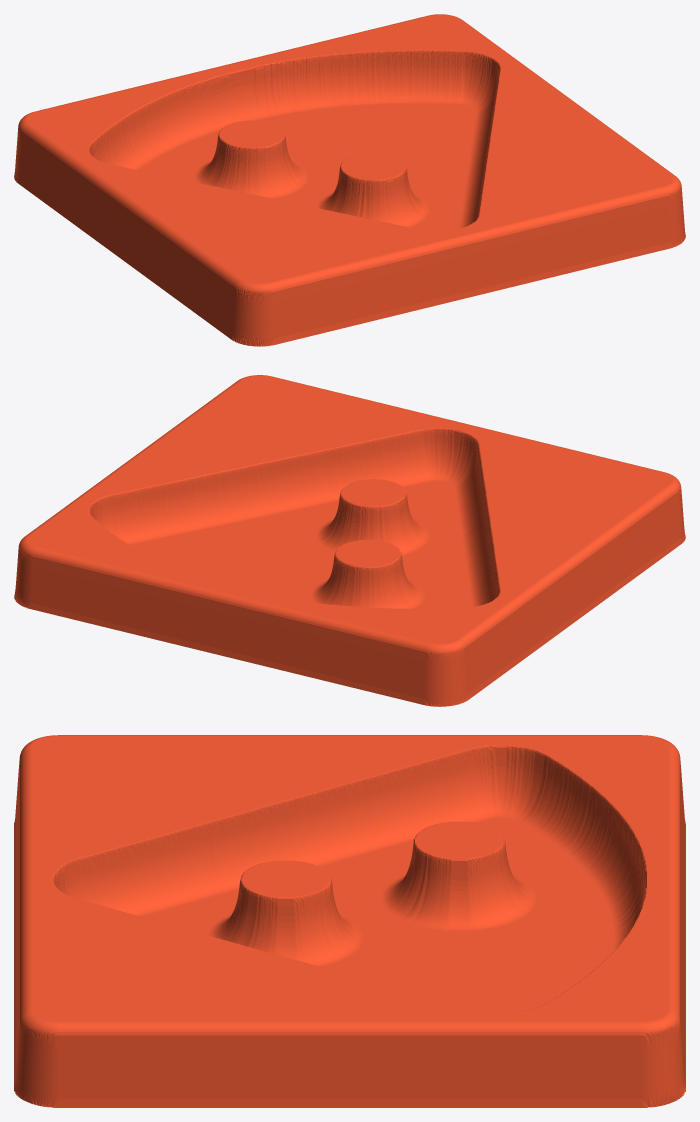
File: mold.glb
3 views of the same model, one above another, from view 1: azimuth 30°, elevation 25°; view 2: azimuth 150°, elevation 25°; view 3: azimuth 270°, elevation 25° (orthographic). The views are drawn at different scales.
Visible parts, largest first — view 1: geometry_0; view 2: geometry_0; view 3: geometry_0.
Part boxes in pixels (bbox=[...]): geometry_0: bbox=[14, 14, 685, 346]; geometry_0: bbox=[14, 375, 685, 706]; geometry_0: bbox=[14, 735, 685, 1107].
Size of the model in its own units: 0.1435 by 0.0175 by 0.1356.
